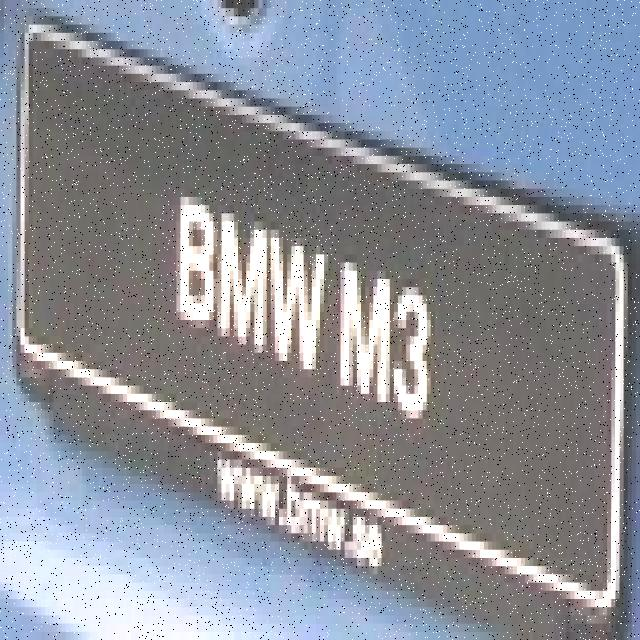licenseplate: (9, 6, 626, 638)
